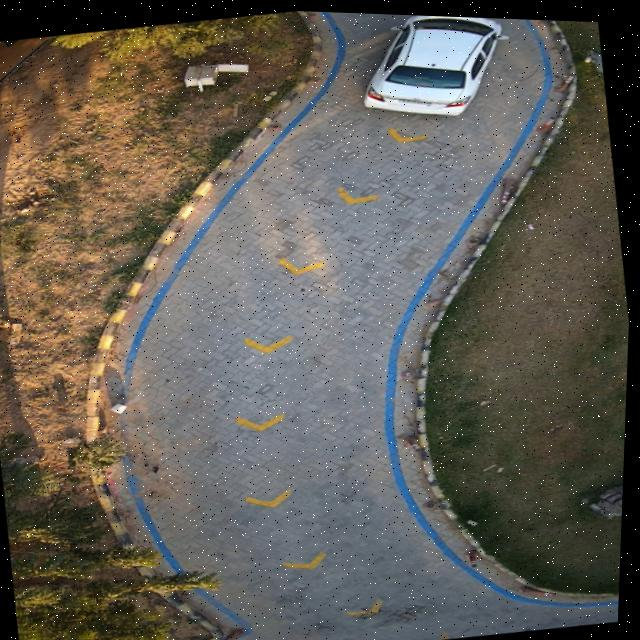car: (365, 12, 508, 112)
